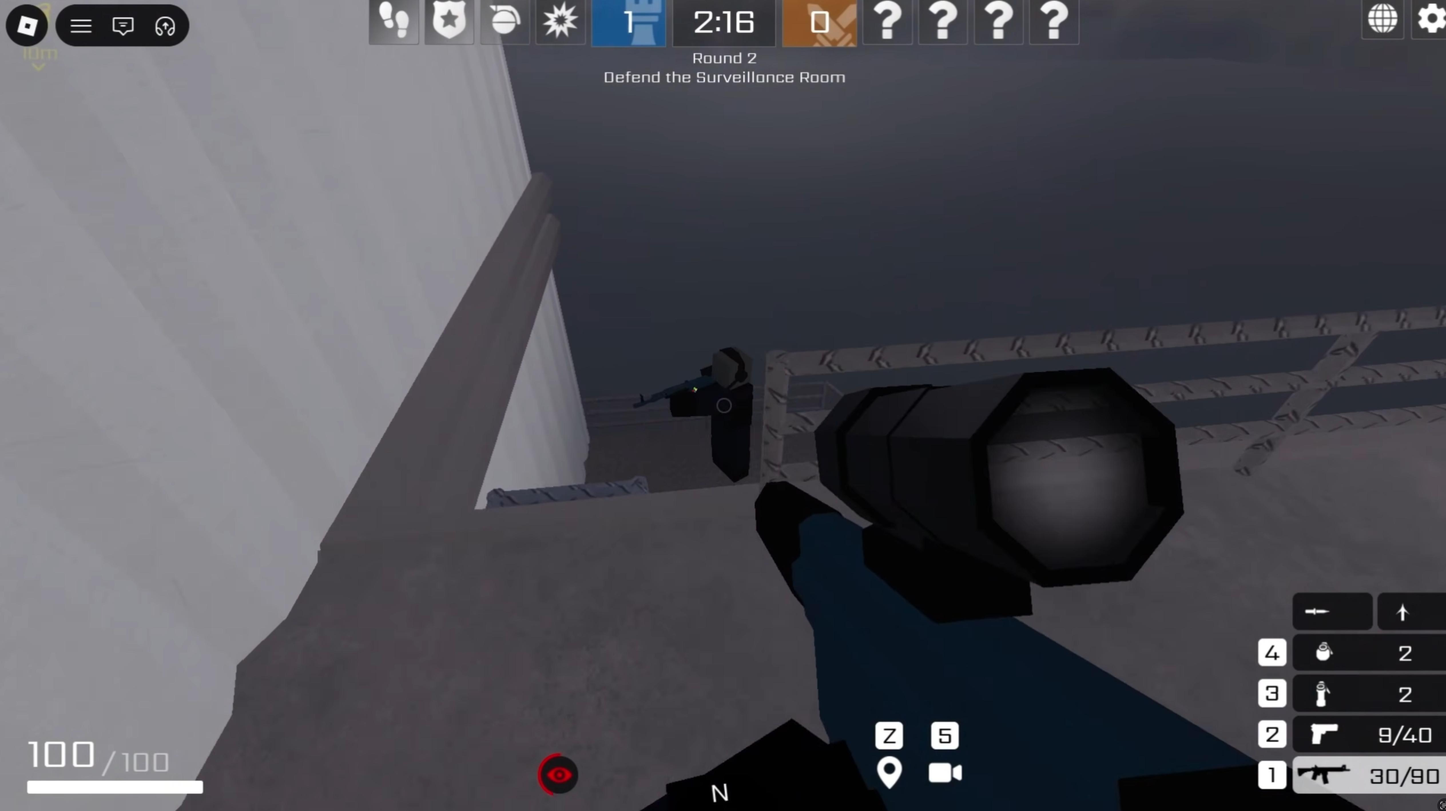enemy: (662, 333, 772, 487)
